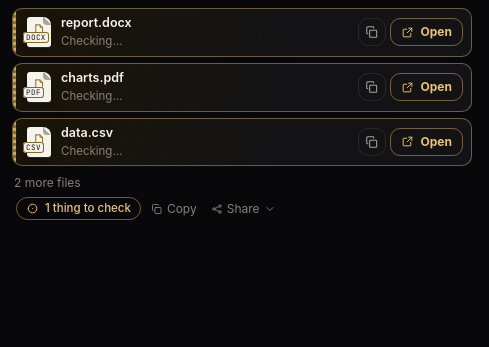
Scenario: under a team’s answer in the chat › attaches the files it names under it, ready to open
Check: the number of buttons "Open " is 3, box [390,18,463,46]; [390,73,463,101]; [390,128,463,156]
Check: the number of elements with class "compact" is 3, box [12,8,472,57]; [12,63,472,112]; [12,118,472,166]
Click the button "2 more files": (47, 183) [14,172,81,194]
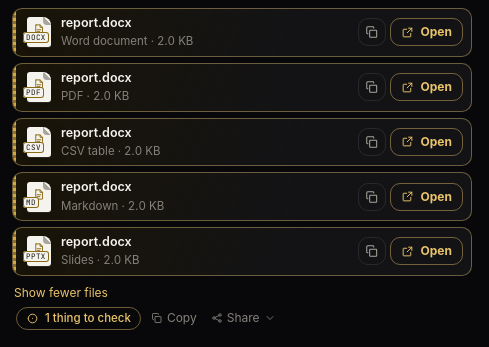
Check: the 1st text "report.docx" is shown, box [61,15,132,30]
Check: the number of buttons "Open " is 5, box [390,18,463,46]; [390,73,463,101]; [390,128,463,156]; [390,183,463,211]; [390,237,463,265]
Check: the button "Show fewer files" is expanded, box [14,282,108,304]
